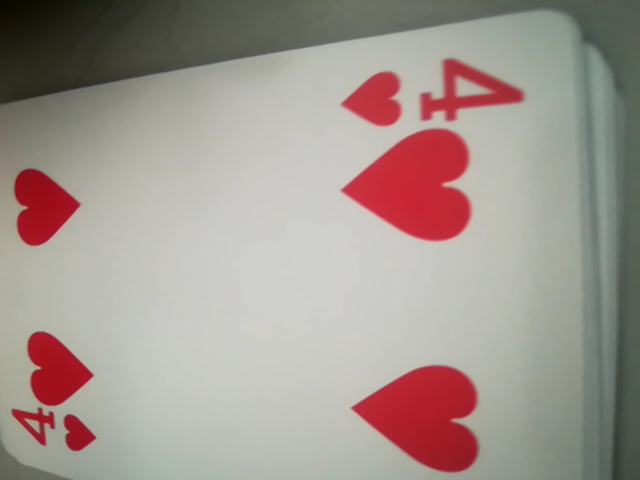hx 4: (336, 51, 526, 136), (3, 401, 97, 464)
